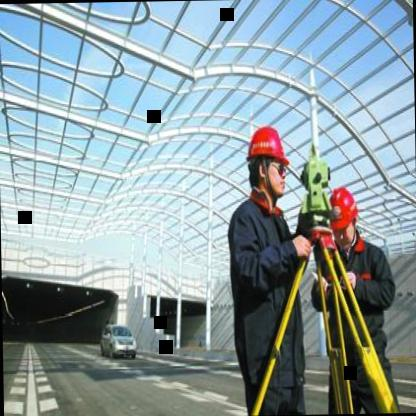helmet: (242, 121, 292, 202), (324, 183, 360, 243)
